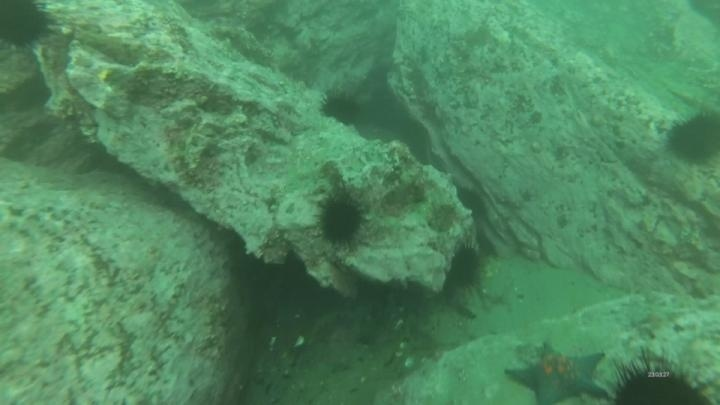echinus: (603, 350, 716, 404), (664, 108, 720, 167), (314, 191, 368, 249), (0, 1, 55, 51), (446, 242, 485, 292), (319, 90, 364, 128)
starfish: (503, 340, 611, 405)
